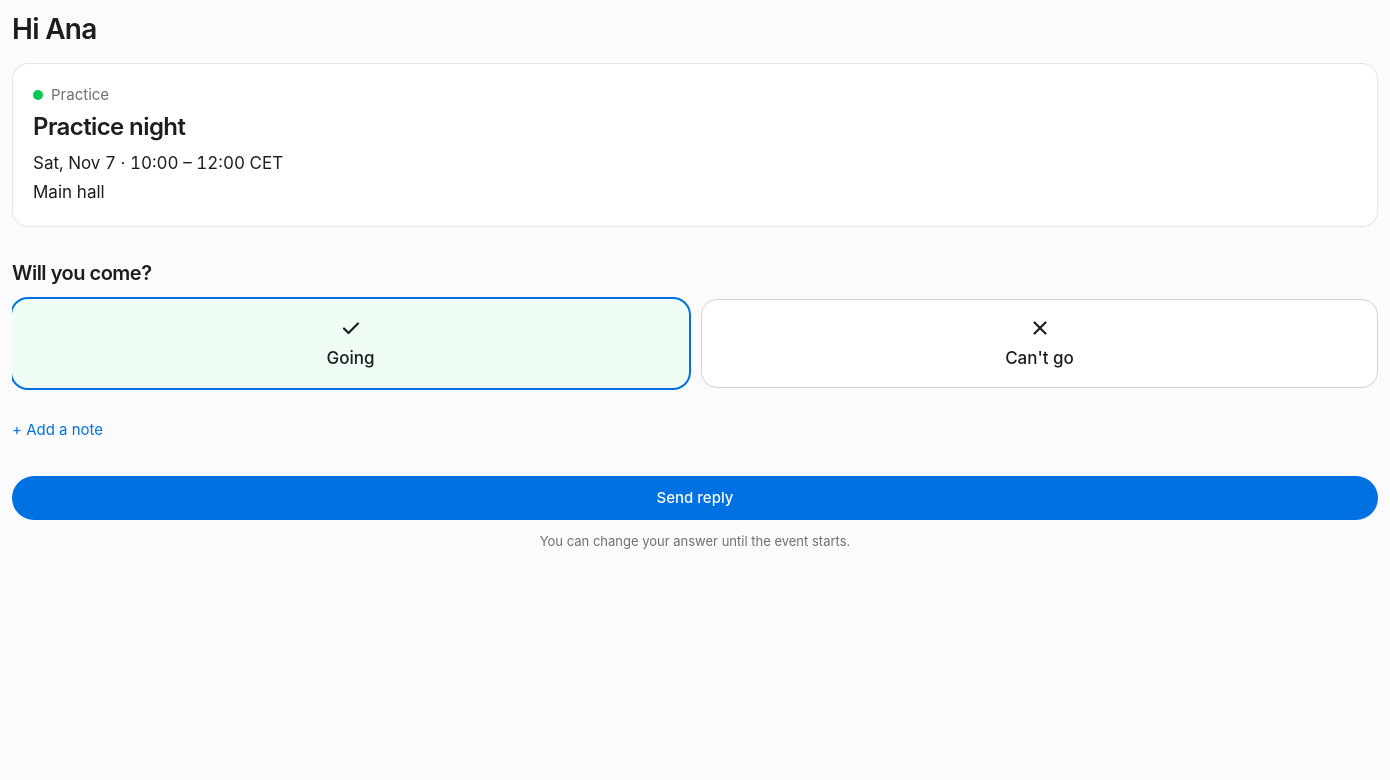
MemberAttendanceView › the form › keeps the form and says so when sending fails
Click the button "Send reply": (695, 498) [12, 476, 1378, 520]
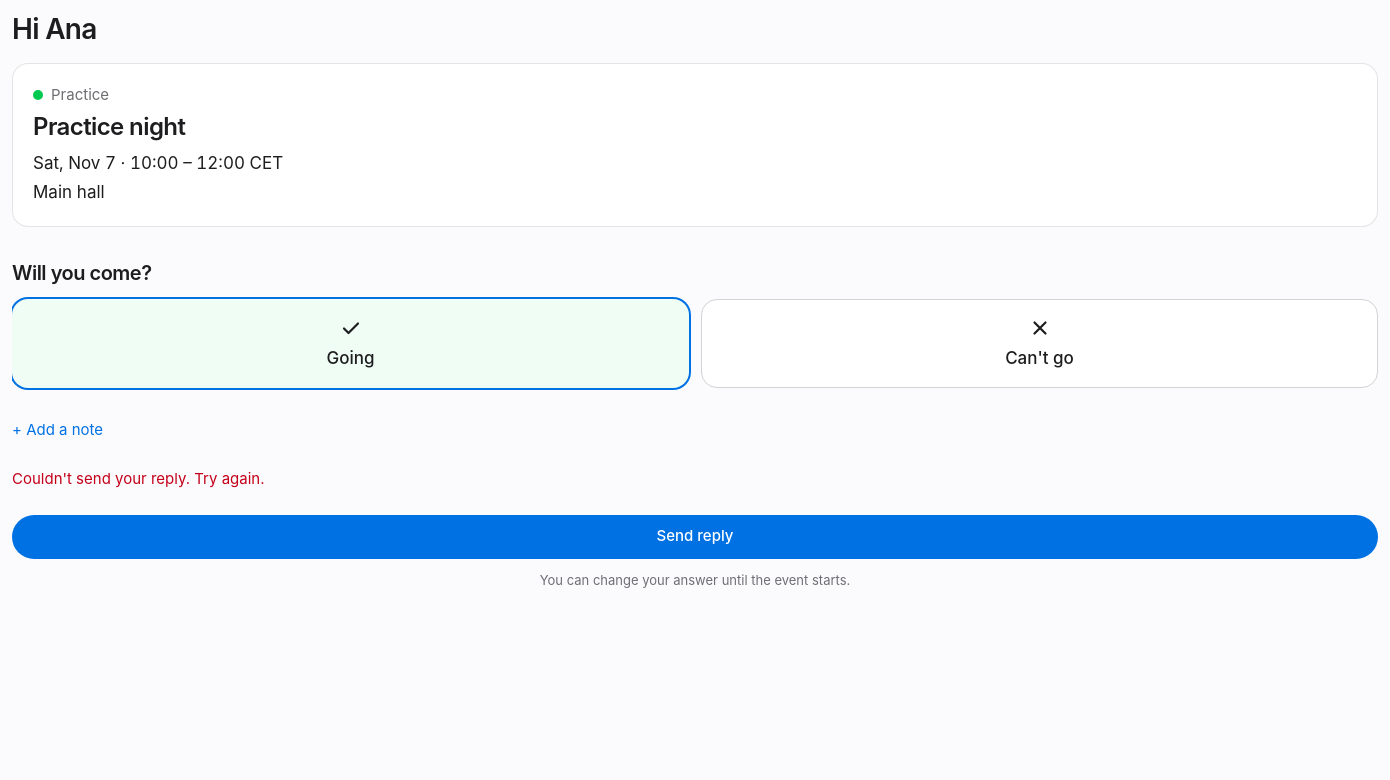
Expected: the button "Send reply" is shown, [12, 514, 1378, 558]
Expected: the message "Couldn't send your reply. Try again." is shown, [12, 469, 264, 488]
